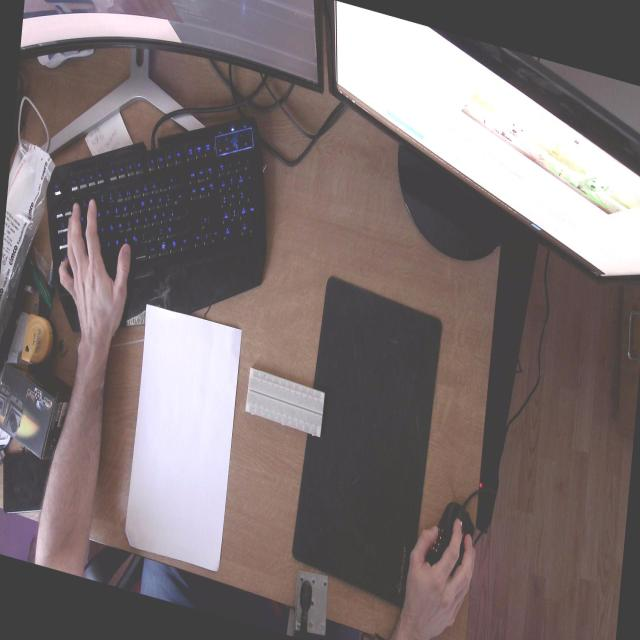keyboard-with-hands: (44, 112, 275, 333)
